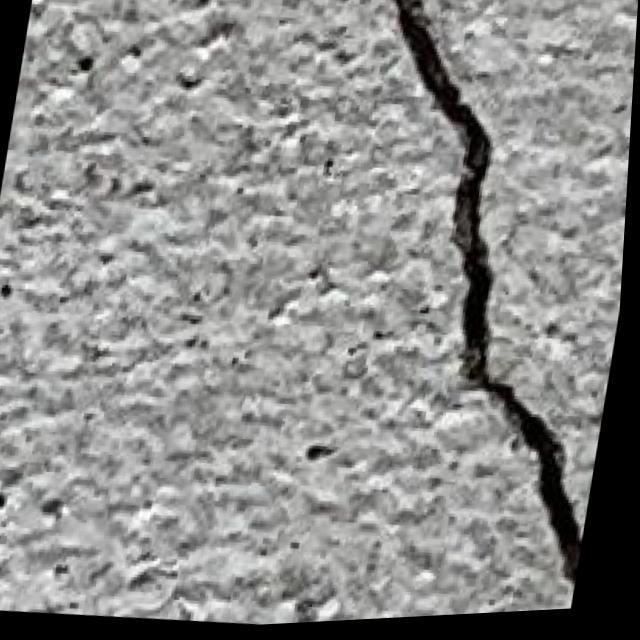Crack: (288, 0, 640, 612)
